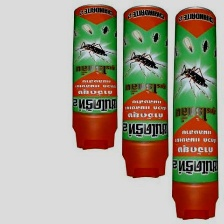aerosol_cans: (168, 2, 220, 221), (119, 3, 173, 182), (69, 0, 121, 152)
